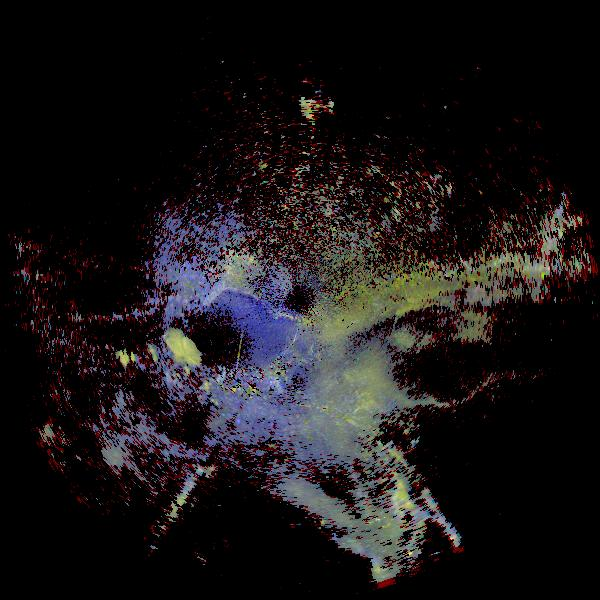roost: (123, 316, 216, 409), (82, 339, 142, 399), (13, 237, 37, 261)
